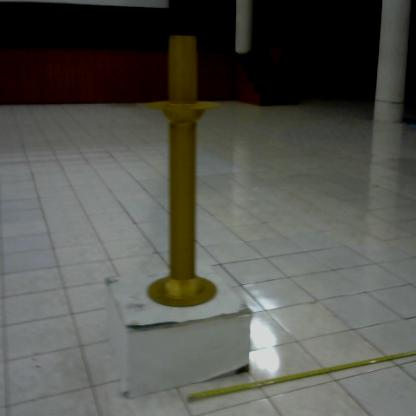pole: (142, 27, 230, 316)
